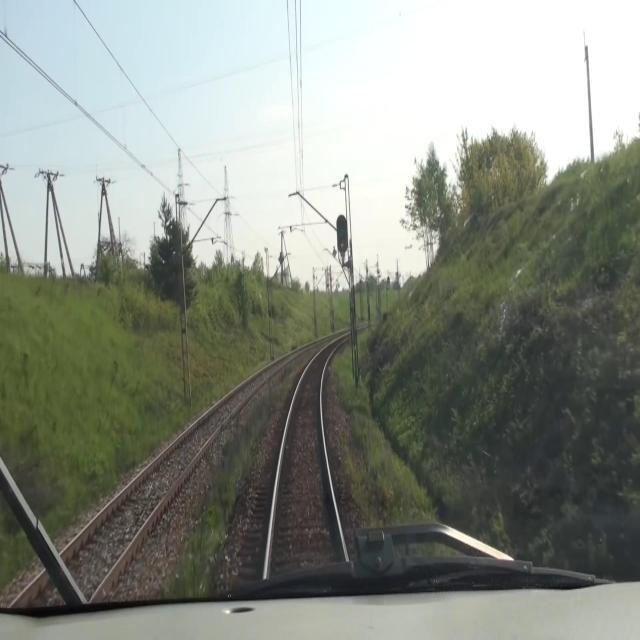rail-track: (16, 359, 284, 607), (267, 341, 345, 579)
